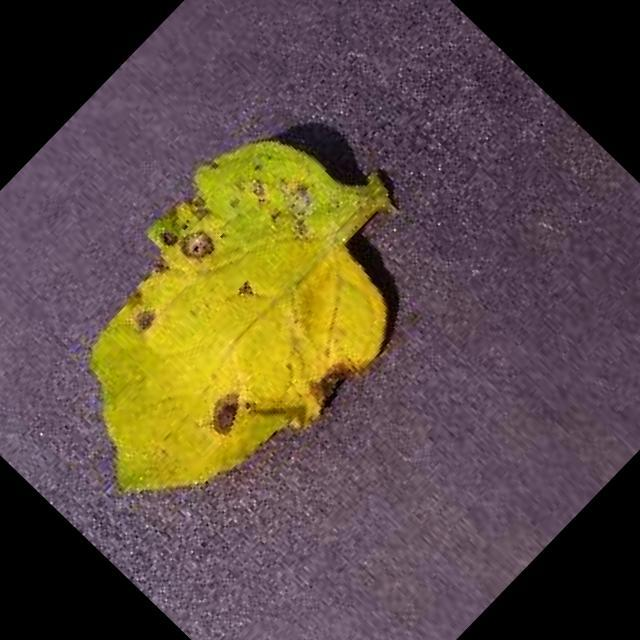Tomato Septoria spot leaf: (0, 101, 449, 556)
